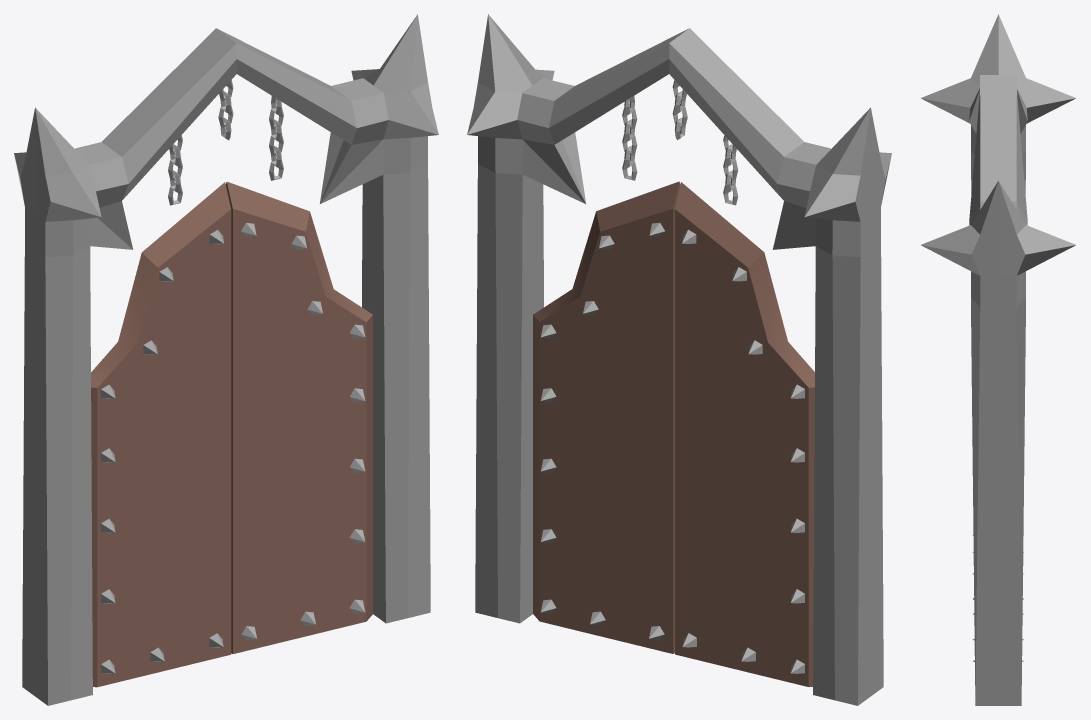
The model's file is door01.fbx.
The picture shows the model from 3 angles, left to right: view 1: azimuth 30°, elevation 25°; view 2: azimuth 150°, elevation 25°; view 3: azimuth 270°, elevation 25°; orthographic projection. The views are drawn at different scales.
Parts seen in each view (by area): view 1: frame, leftDoor, rightDoor; view 2: frame, leftDoor, rightDoor; view 3: frame.
Part boxes in pixels (left/top/right/bottom): frame: left=14, top=14, right=438, bottom=705; leftDoor: left=91, top=182, right=231, bottom=687; rightDoor: left=225, top=181, right=372, bottom=653; frame: left=467, top=14, right=891, bottom=705; leftDoor: left=675, top=182, right=814, bottom=686; rightDoor: left=533, top=181, right=680, bottom=653; frame: left=921, top=14, right=1075, bottom=705.
Size of the model in its own units: 227 by 349 by 90.18.
